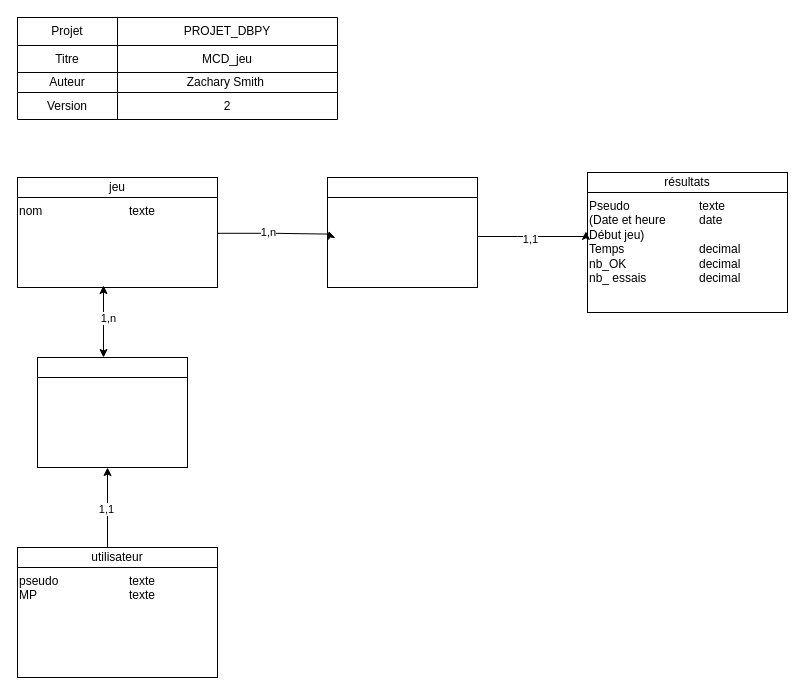
The diagram is 805 pixels wide and 695 high, and some of its shapes have lost their labels. Each missing label, with the centre of its shape:
"contient" goes at (402,187).
"participe" goes at (112,367).
